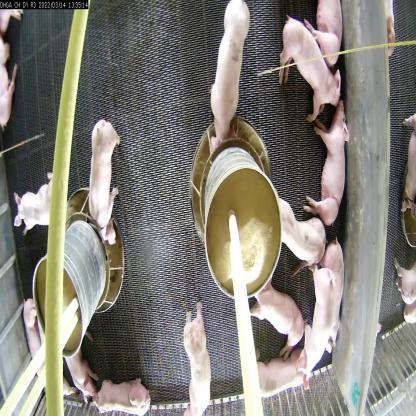Pig: (280, 13, 348, 132), (203, 3, 251, 145), (79, 113, 122, 235), (296, 267, 337, 383), (13, 174, 76, 247), (307, 112, 347, 224), (173, 304, 213, 416), (268, 196, 338, 258), (21, 290, 57, 393), (317, 245, 351, 353), (248, 278, 304, 341), (96, 366, 157, 416), (245, 350, 312, 394), (62, 339, 88, 392)
